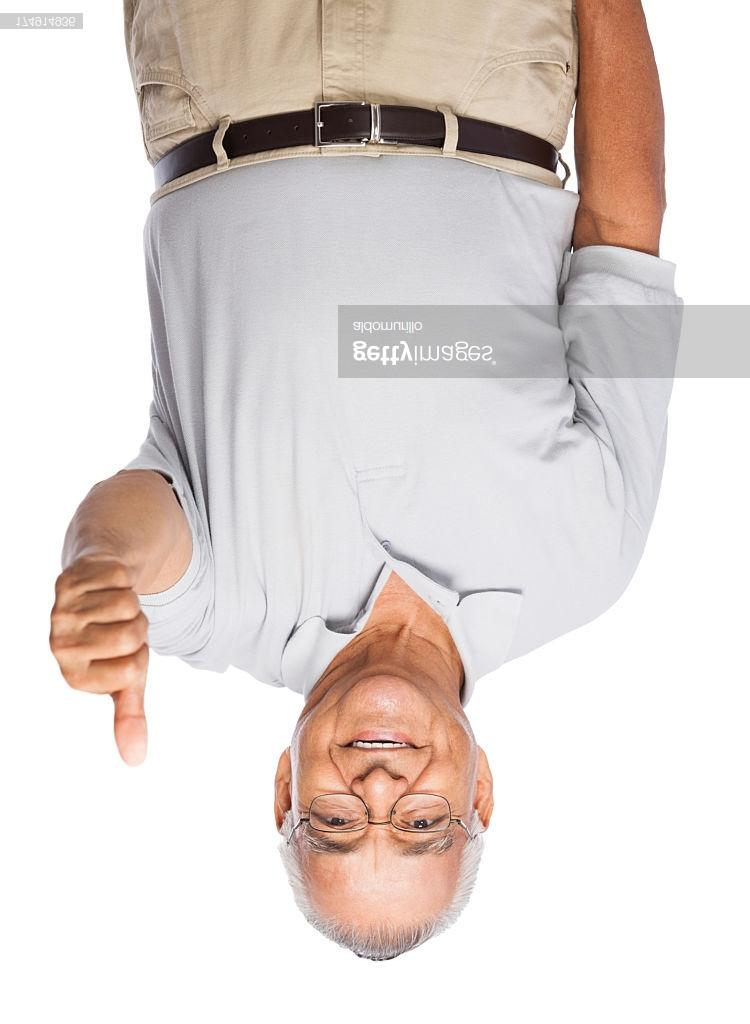thumbsdown: (47, 559, 151, 769)
